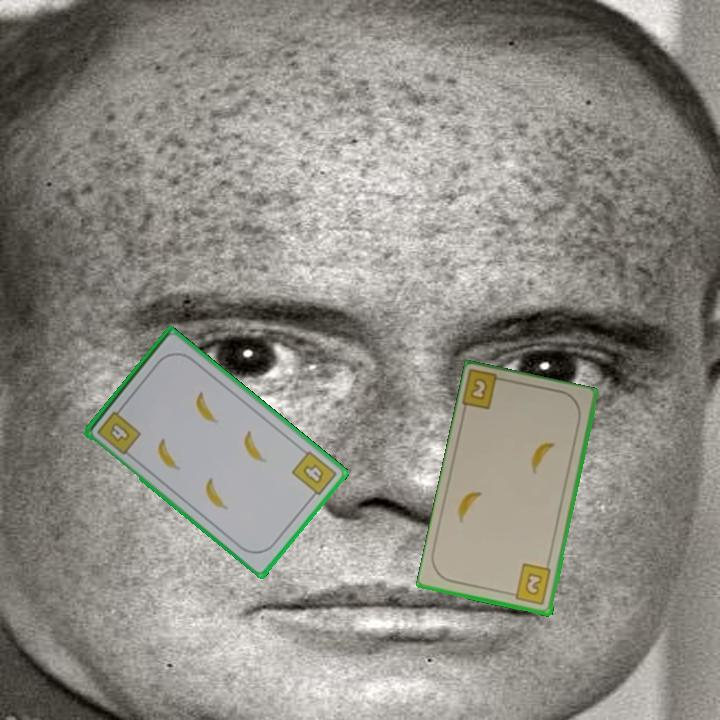2b: (460, 368, 511, 413), (506, 561, 554, 608)
4b: (288, 447, 340, 503), (93, 403, 144, 458)
